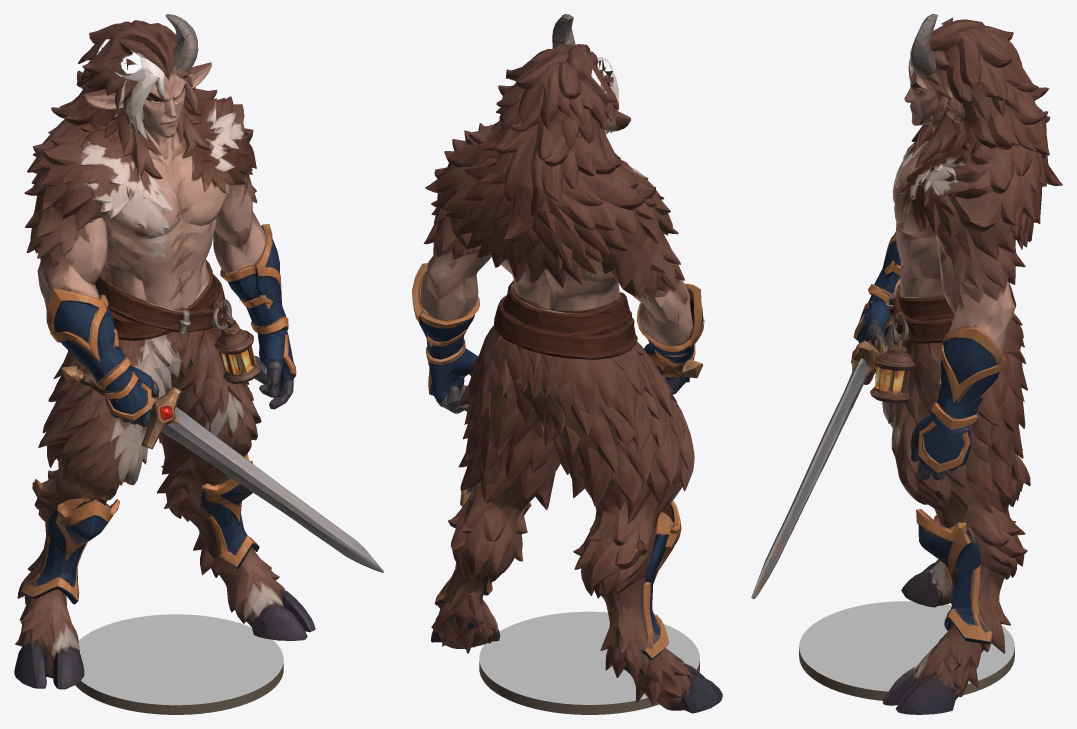
Rendered from pc_saveas.glb.
The picture shows the model from 3 angles, left to right: view 1: azimuth 30°, elevation 25°; view 2: azimuth 150°, elevation 25°; view 3: azimuth 270°, elevation 25°; orthographic projection. The views are drawn at different scales.
Visible parts, largest first — view 1: Saveas; view 2: Saveas; view 3: Saveas.
Boxes of the visible parts, x1,y1,x2,y2 form: Saveas: (14,14,383,714); Saveas: (412,14,722,714); Saveas: (751,14,1062,714).
Bounding box in the file's own units: 0.9164 × 2.01 × 0.8795.
Materials: 3 (1 with a texture image).
